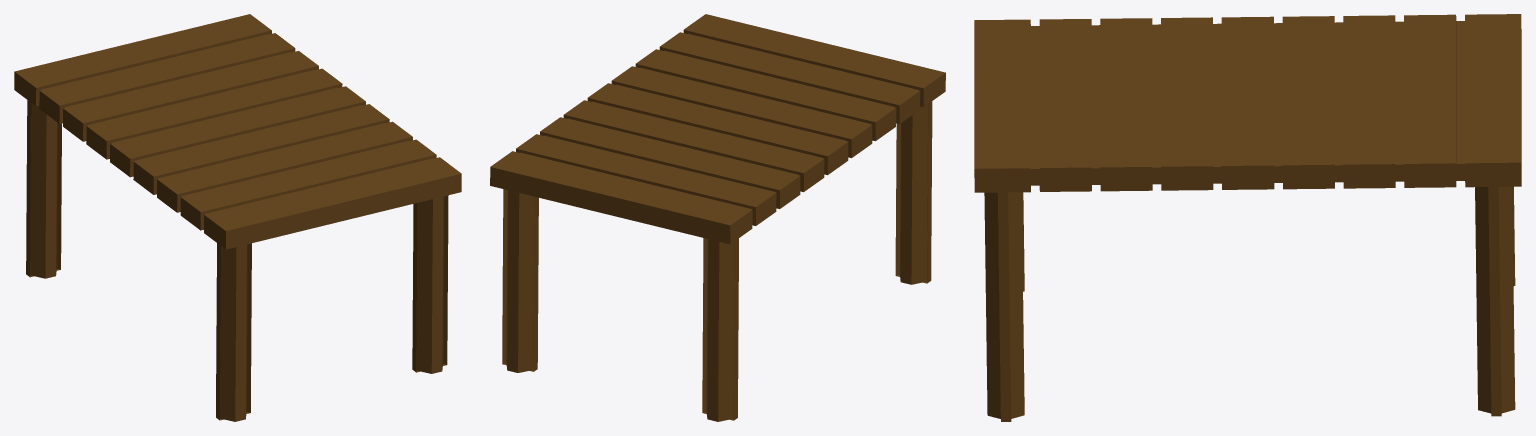
The model's file is new_picnic_table.fbx.
3 renders of one model, left to right at view 1: azimuth 30°, elevation 25°; view 2: azimuth 150°, elevation 25°; view 3: azimuth 270°, elevation 25°, orthographic. The views are drawn at different scales.
Visible parts, largest first — view 1: Cube.001; view 2: Cube.001; view 3: Cube.001.
Part boxes in pixels (x1=…): Cube.001: x1=14, y1=14, x2=461, y2=421; Cube.001: x1=490, y1=14, x2=945, y2=421; Cube.001: x1=974, y1=14, x2=1521, y2=421.
Bounding box in the file's own units: 103 × 84.45 × 160.
